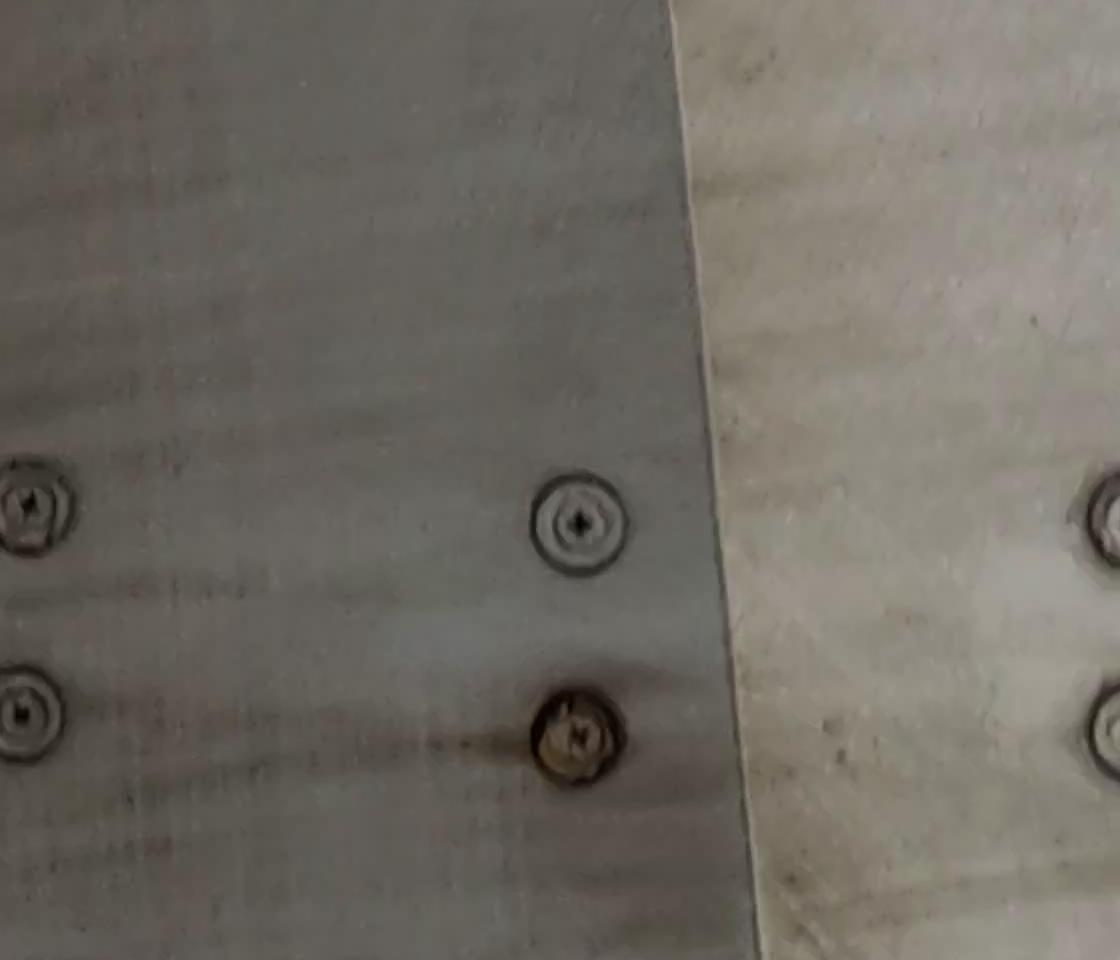rivet_damage: (520, 680, 641, 798), (1, 456, 88, 564), (1, 667, 78, 773)
